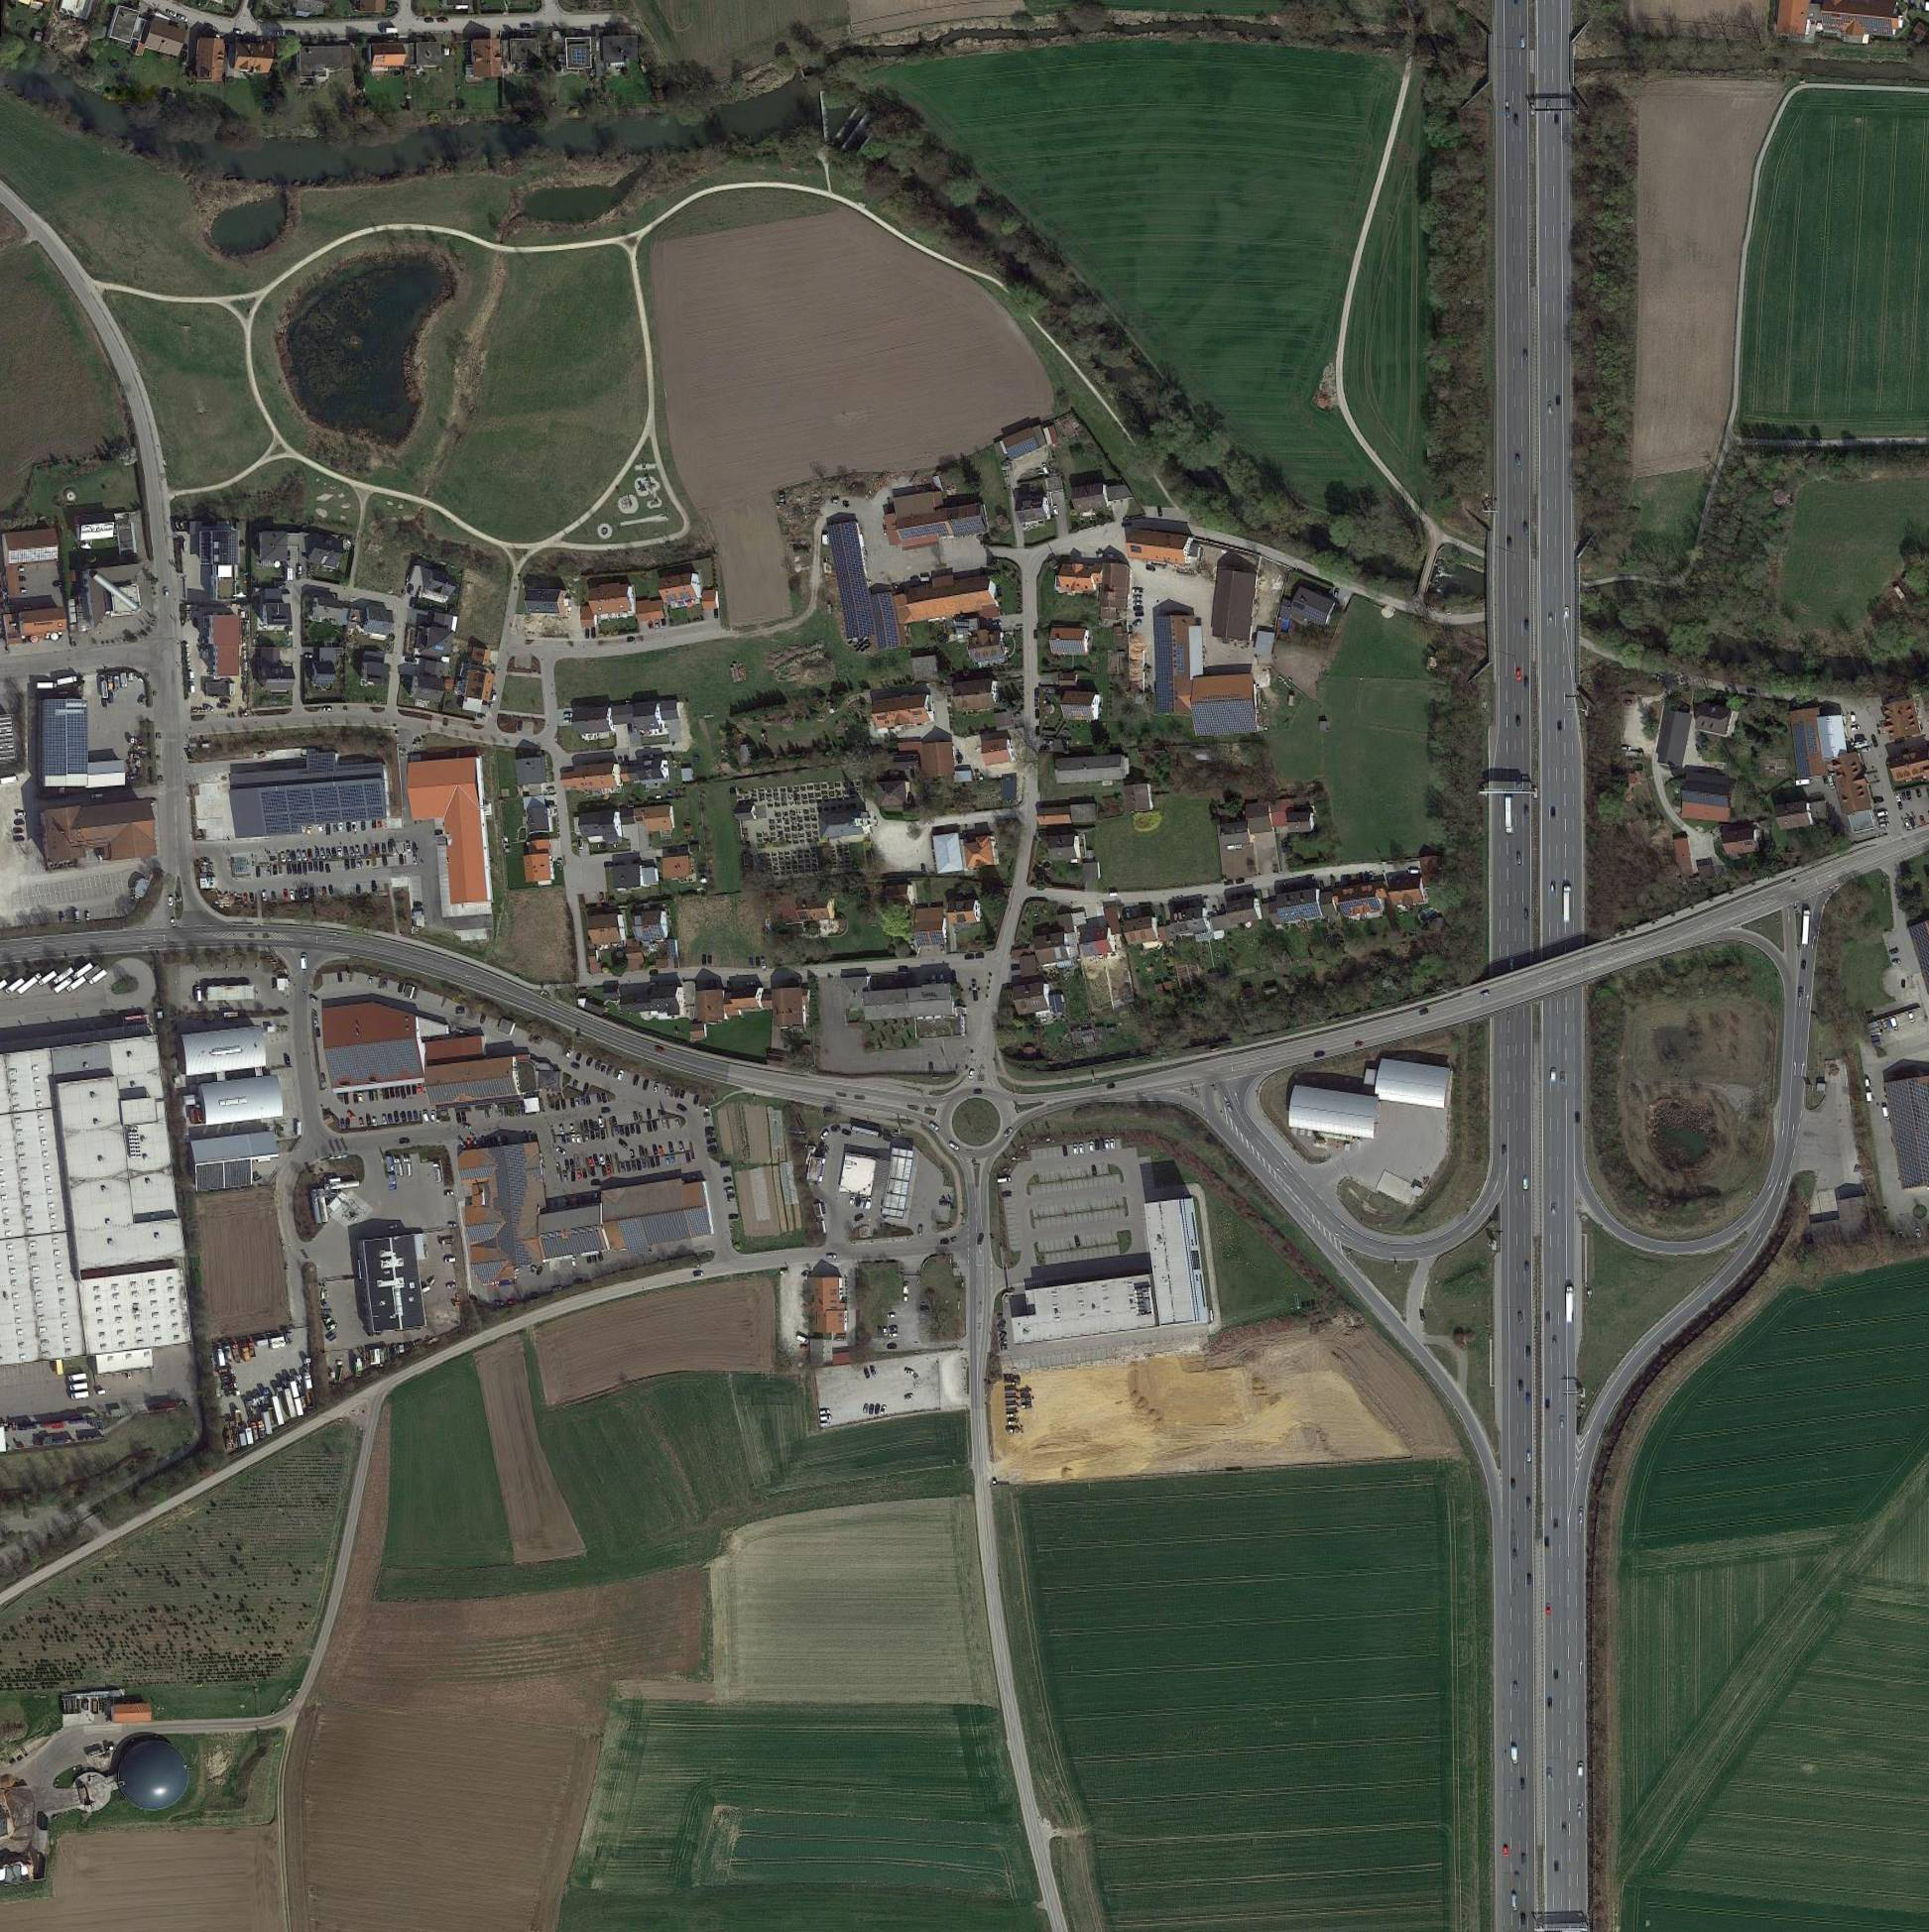bridge: (1493, 47, 1574, 73)
roundabout: (935, 1084, 1013, 1155)
